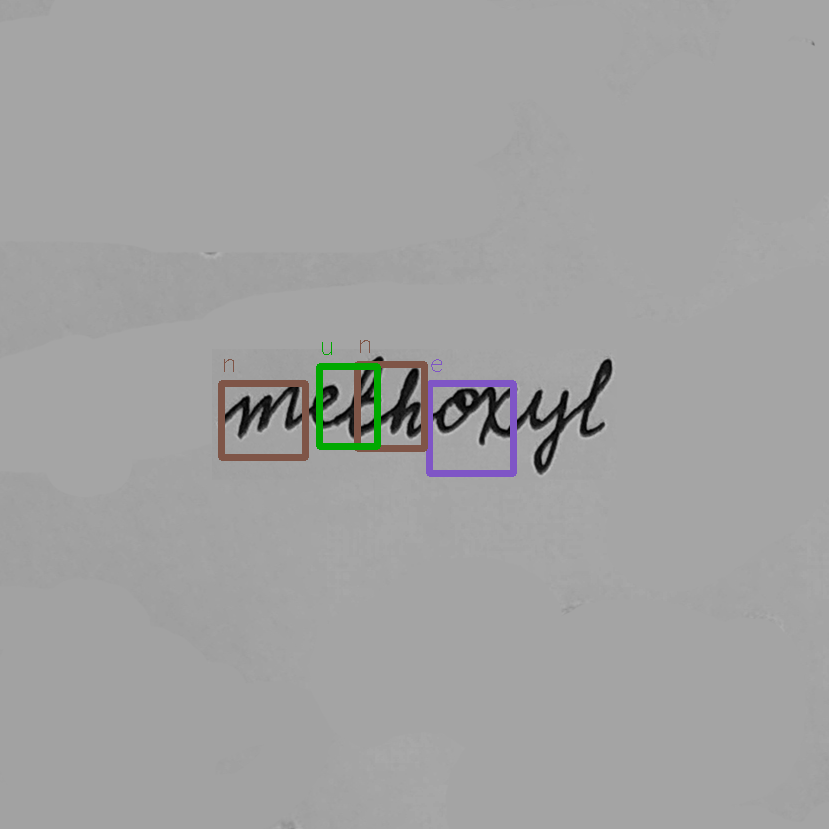e: (307, 380, 341, 434)
h: (388, 361, 425, 442)
l: (575, 354, 615, 443)
m: (232, 380, 304, 442)
o: (432, 384, 485, 436)
t: (344, 352, 386, 443)
x: (474, 380, 520, 446)
y: (523, 386, 575, 477)
